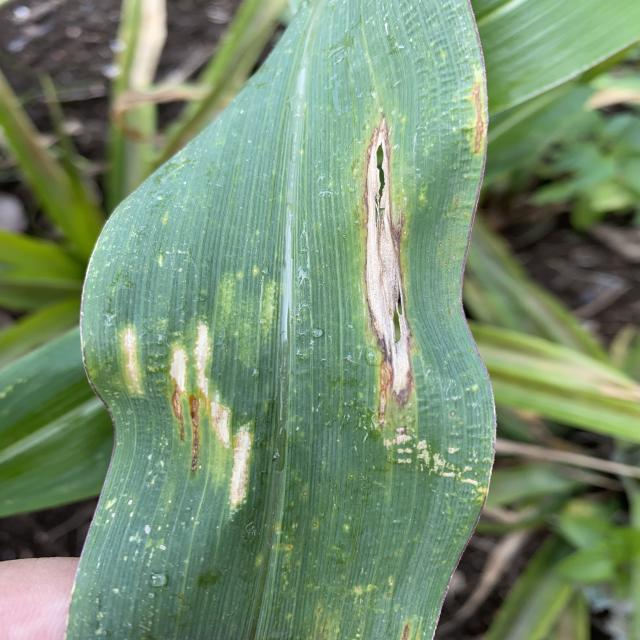Corn_Grey_Leaf_Spot: (78, 0, 496, 640)
